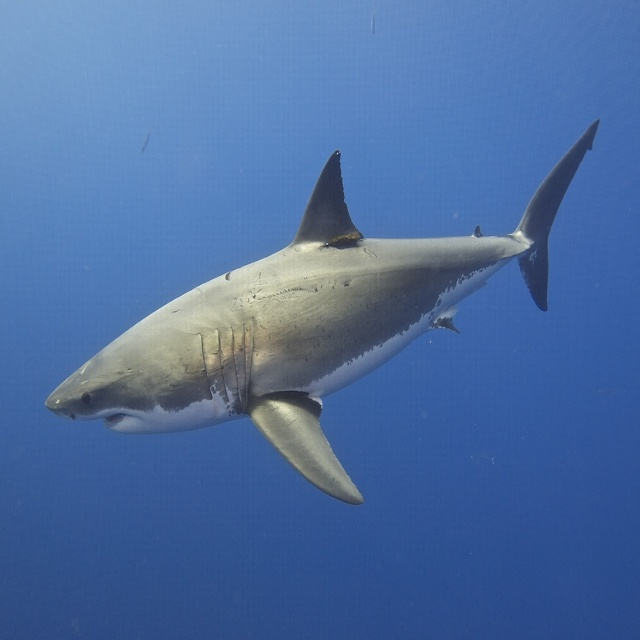Shark: (45, 119, 600, 495)
